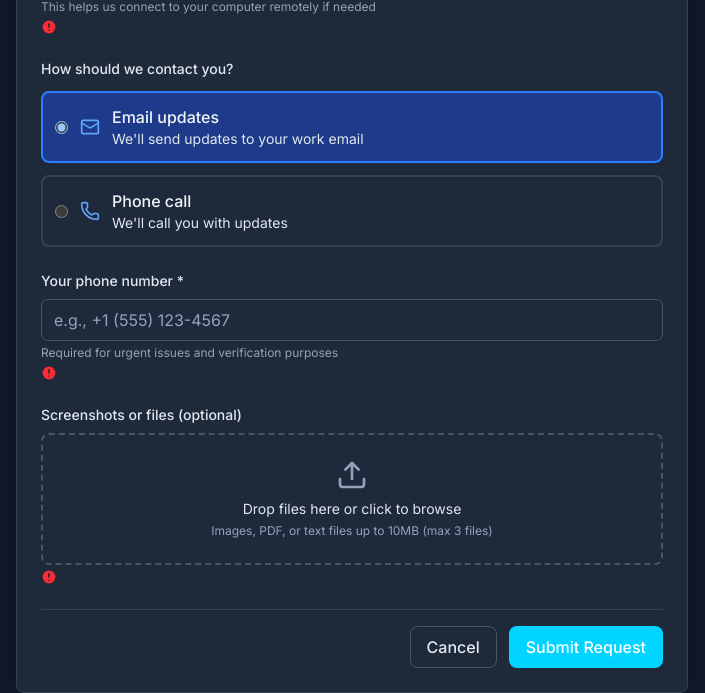
Test case: TicketCreationForm › validates required fields on submit
(page scrolled)
// Try to submit without filling required fields
Step 1. Click the button "Submit Request" → (586, 647), box [509,626,663,668]
(page scrolled)
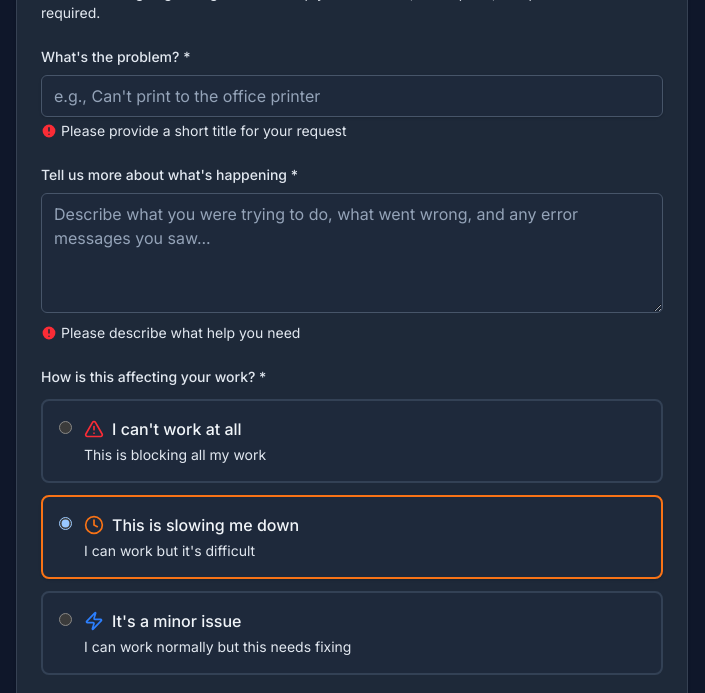
Now the text "Please provide a short title for your request" is shown, box [61,121,347,141]
Now the text "Please describe what help you need" is shown, box [61,323,300,343]
